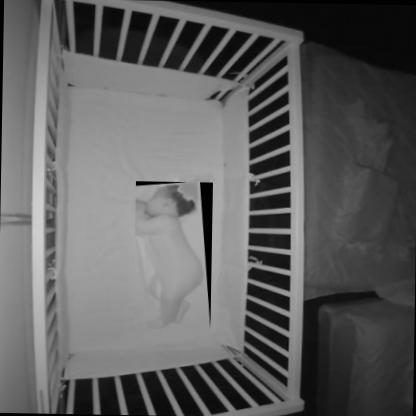baby: (135, 184, 205, 328)
